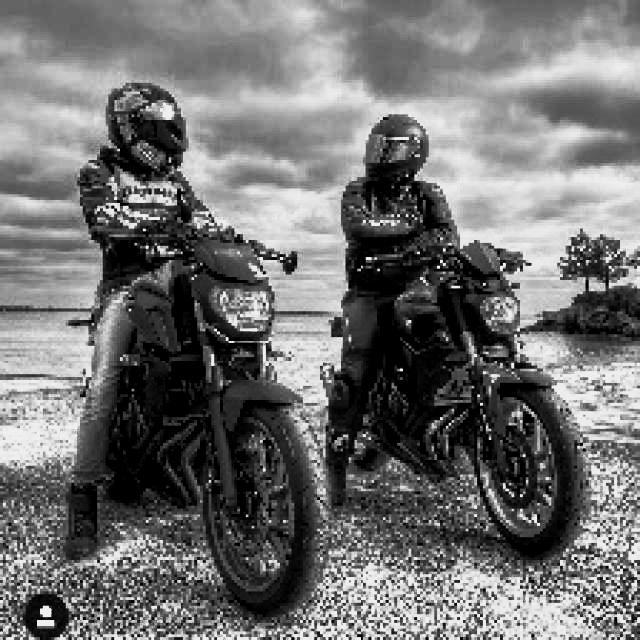Bike: (107, 206, 335, 614), (349, 231, 610, 573)
